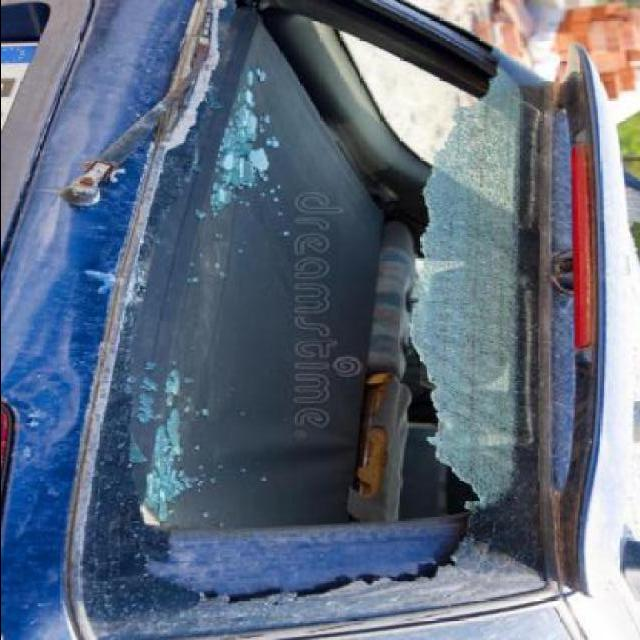Rear-windscreen-Damage: (59, 0, 637, 638)
